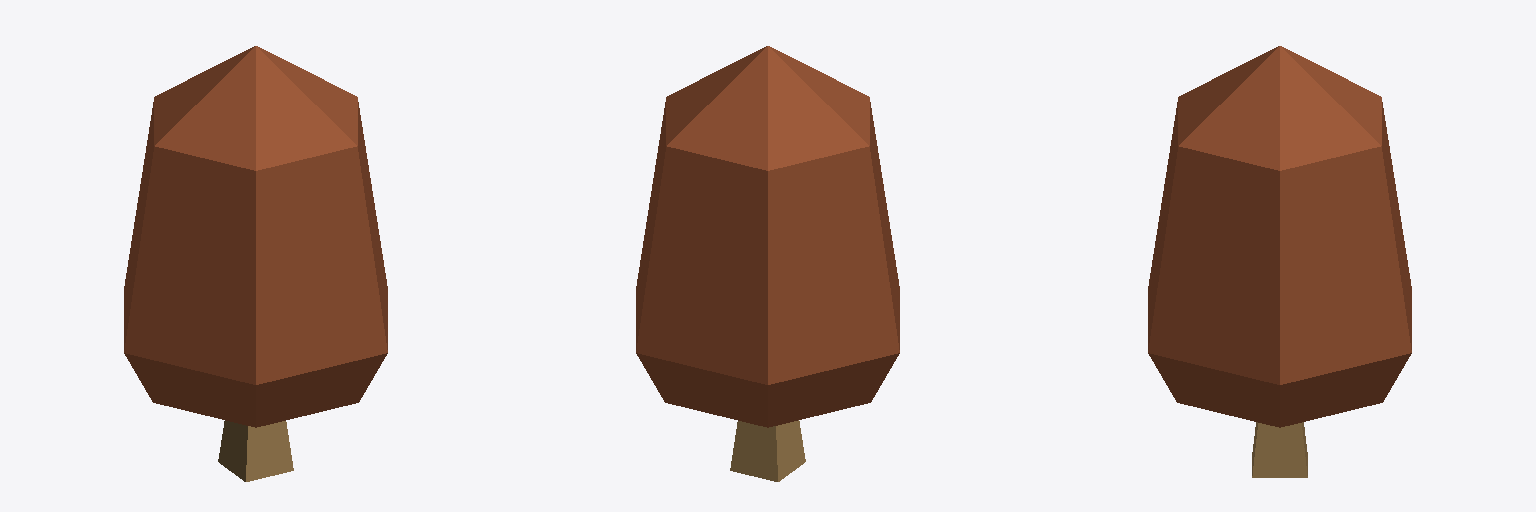
3 views of the same model, side by side, from view 1: azimuth 30°, elevation 25°; view 2: azimuth 150°, elevation 25°; view 3: azimuth 270°, elevation 25° (orthographic).
Visible parts, largest first — view 1: Mesh1 Large_Oak_Fall Model; view 2: Mesh1 Large_Oak_Fall Model; view 3: Mesh1 Large_Oak_Fall Model.
Boxes of the visible parts, <box> form: Mesh1 Large_Oak_Fall Model: <box>124,46,387,481</box>; Mesh1 Large_Oak_Fall Model: <box>636,46,899,481</box>; Mesh1 Large_Oak_Fall Model: <box>1148,46,1411,477</box>.
Size of the model in its own units: 3.02 by 4.6 by 2.62.
1 materials, 1 textured.